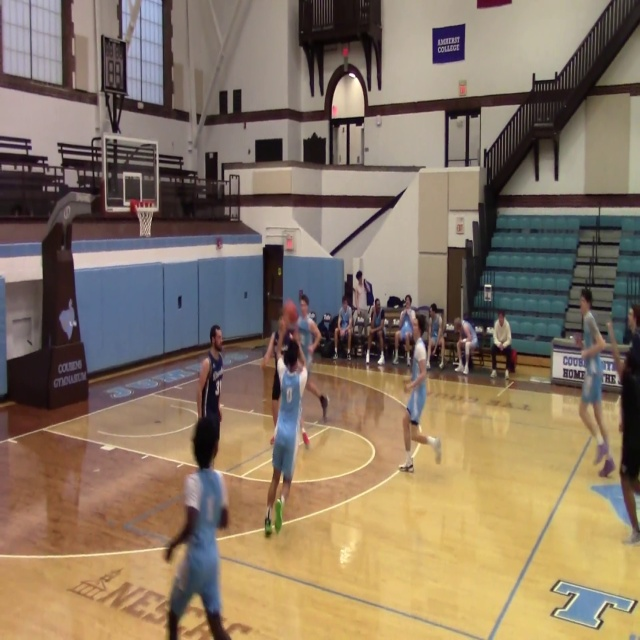Basketball: (283, 300, 298, 324), (413, 340, 427, 362)
